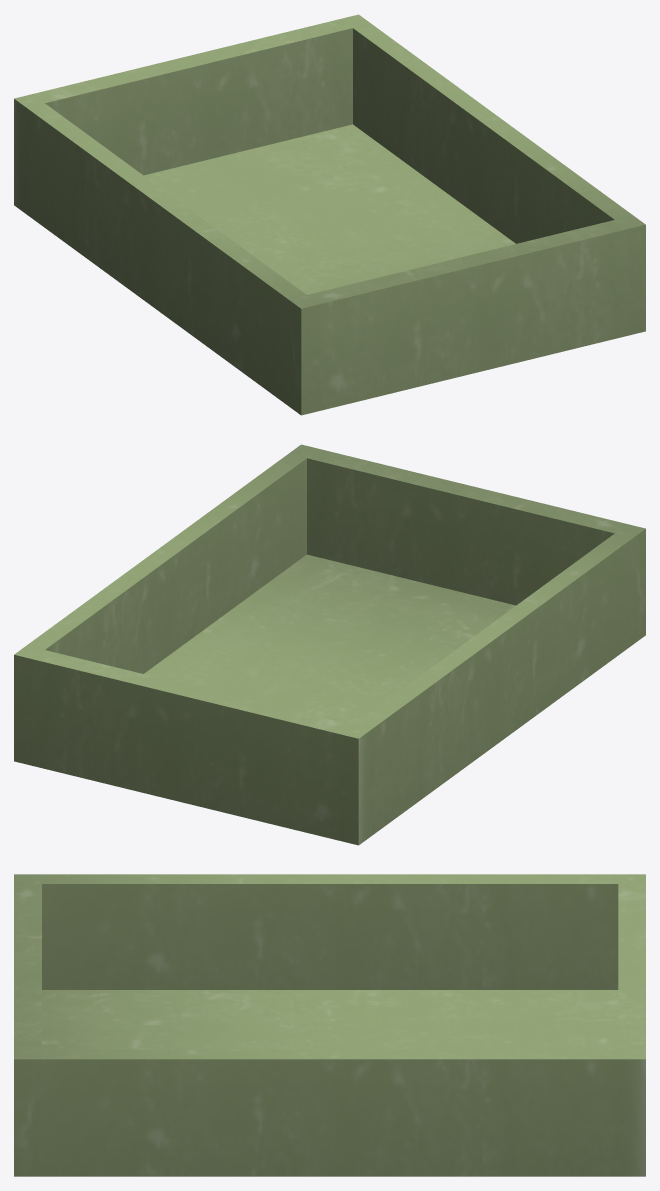
Rendered from Prop_pallete11a.fbx.
3 views of the same model, one above another, from view 1: azimuth 30°, elevation 25°; view 2: azimuth 150°, elevation 25°; view 3: azimuth 270°, elevation 25° (orthographic). The views are drawn at different scales.
Parts seen in each view (by area): view 1: Prop_pallete11a; view 2: Prop_pallete11a; view 3: Prop_pallete11a.
Part boxes in pixels (x1,y1,x2,y2): Prop_pallete11a: (14,14,645,415); Prop_pallete11a: (14,444,645,845); Prop_pallete11a: (14,874,645,1176).
Size of the model in its own units: 0.5558 by 0.1644 by 0.8019.
